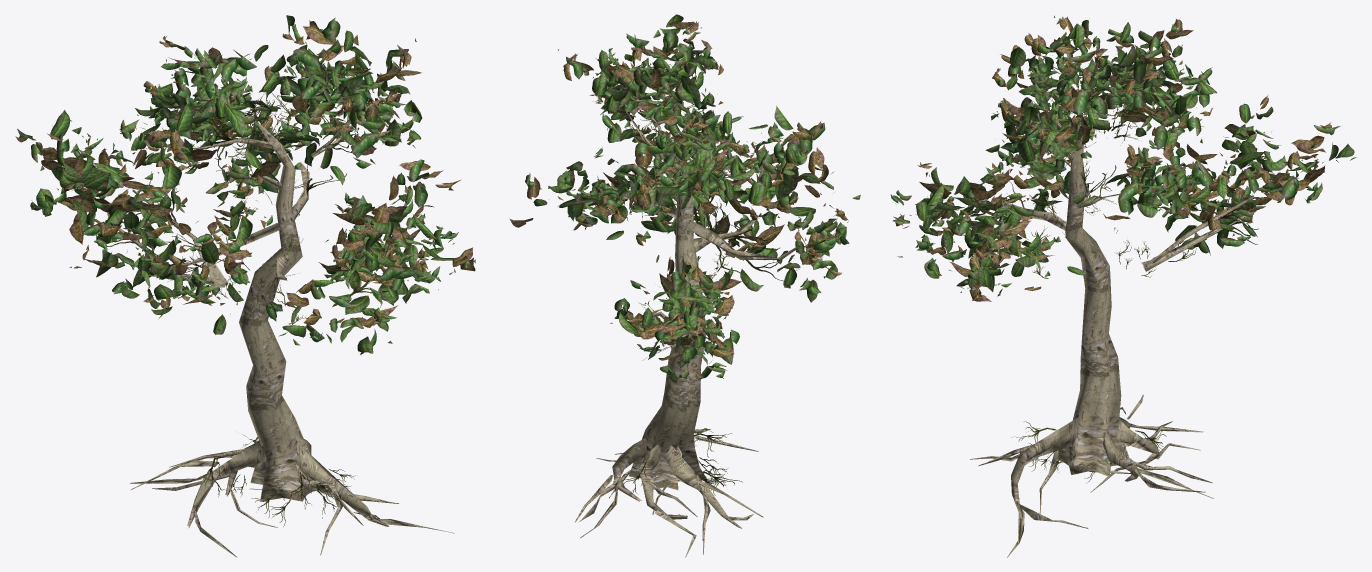
The model's file is kingsville_wood03_lod1.gltf.
3 views of the same model, side by side, from view 1: azimuth 30°, elevation 25°; view 2: azimuth 150°, elevation 25°; view 3: azimuth 270°, elevation 25° (orthographic). The views are drawn at different scales.
Parts seen in each view (by area): view 1: Kingsville wood03; view 2: Kingsville wood03; view 3: Kingsville wood03.
Boxes of the visible parts, x1=… form: Kingsville wood03: x1=15, y1=15, x2=475, y2=557; Kingsville wood03: x1=509, y1=14, x2=860, y2=557; Kingsville wood03: x1=890, y1=15, x2=1356, y2=557.
Size of the model in its own units: 2.83 by 4.5 by 3.94.
Materials: 4 (4 with a texture image).
